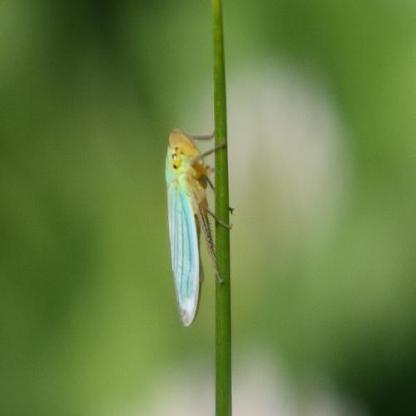Green-Leafhopper: (162, 110, 240, 332)
